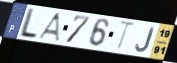6: (88, 18, 111, 49)
7: (65, 14, 91, 45)
A: (36, 11, 63, 43)
J: (135, 26, 156, 54)
L: (16, 7, 39, 40)
T: (114, 20, 137, 53)
